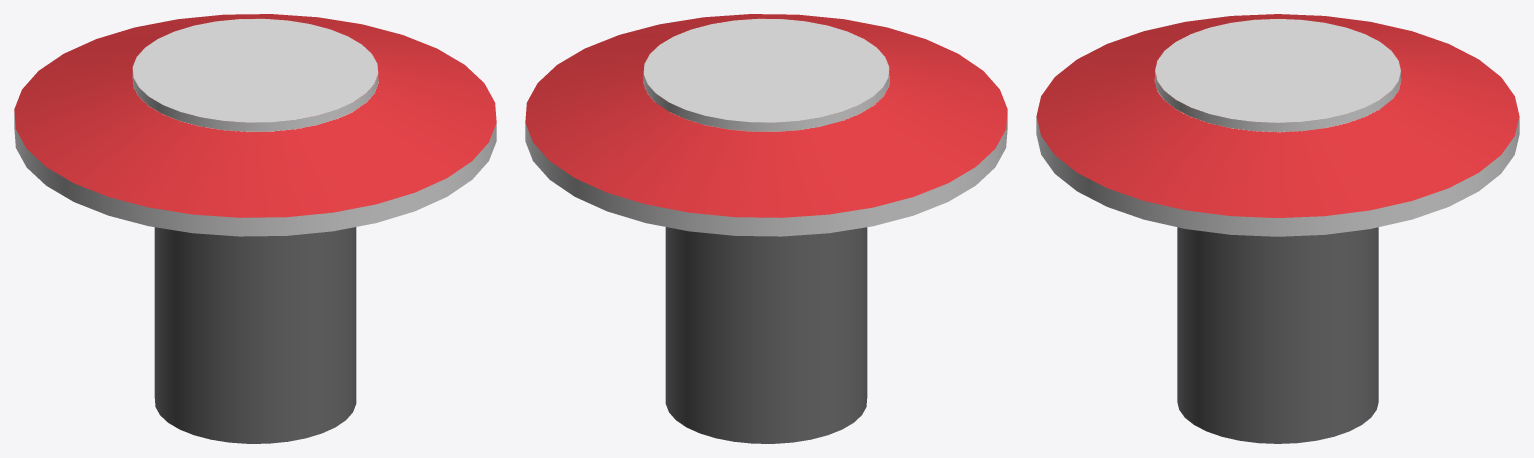
The model's file is Bumper.fbx.
3 views of the same model, side by side, from view 1: azimuth 30°, elevation 25°; view 2: azimuth 150°, elevation 25°; view 3: azimuth 270°, elevation 25° (orthographic).
Visible parts, largest first — view 1: Bumper; view 2: Bumper; view 3: Bumper.
Part boxes in pixels (left/top/right/bottom): Bumper: left=14, top=14, right=496, bottom=443; Bumper: left=525, top=14, right=1007, bottom=443; Bumper: left=1036, top=14, right=1519, bottom=443.
Size of the model in its own units: 355 by 268 by 355.
